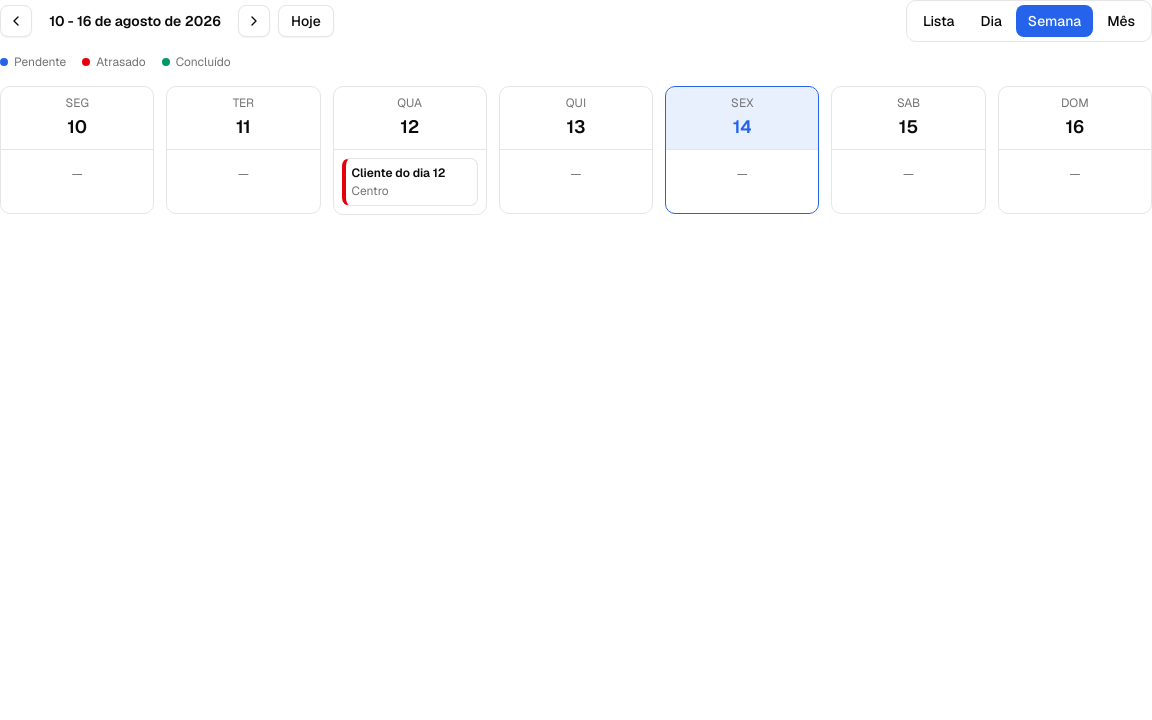
it: Agenda2Calendario — diálogo do dia e ações do dono › dialogo-pela-semana (Pitfall 9): clicar no chip abre o mesmo diálogo
Click the button "Cliente do dia 12 Centro" at (410, 182), box [342,158,478,206]
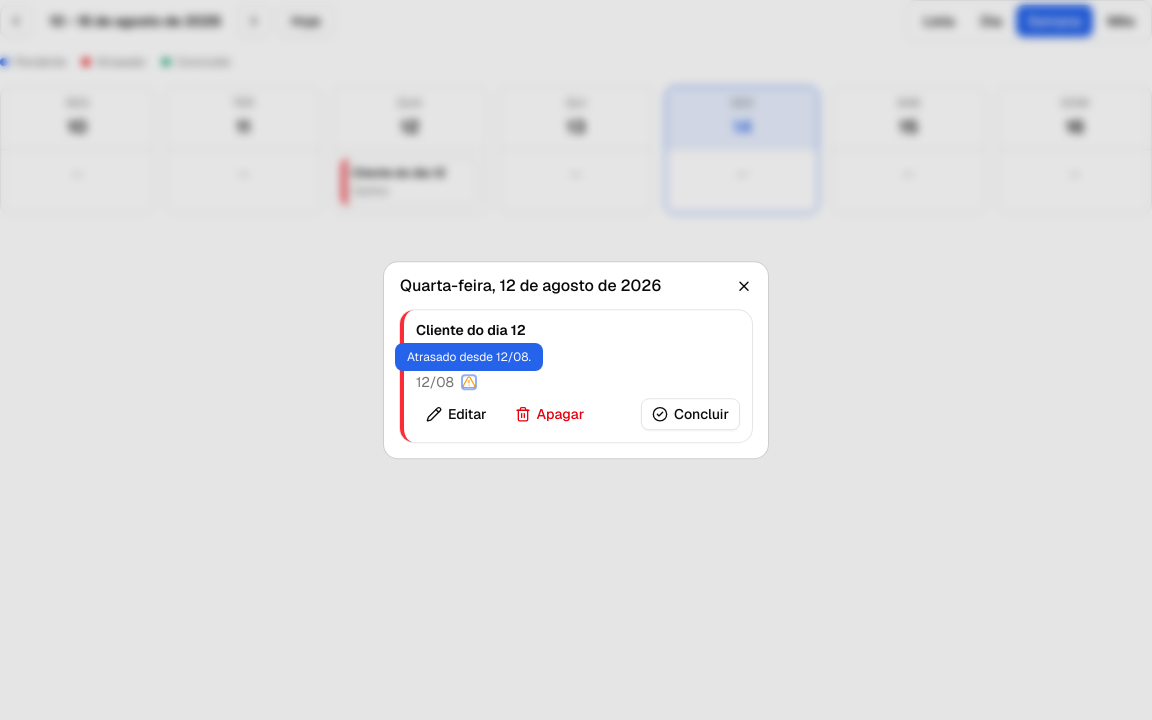
Result: the text "Cliente do dia 12" is shown at [416,321,526,339]
